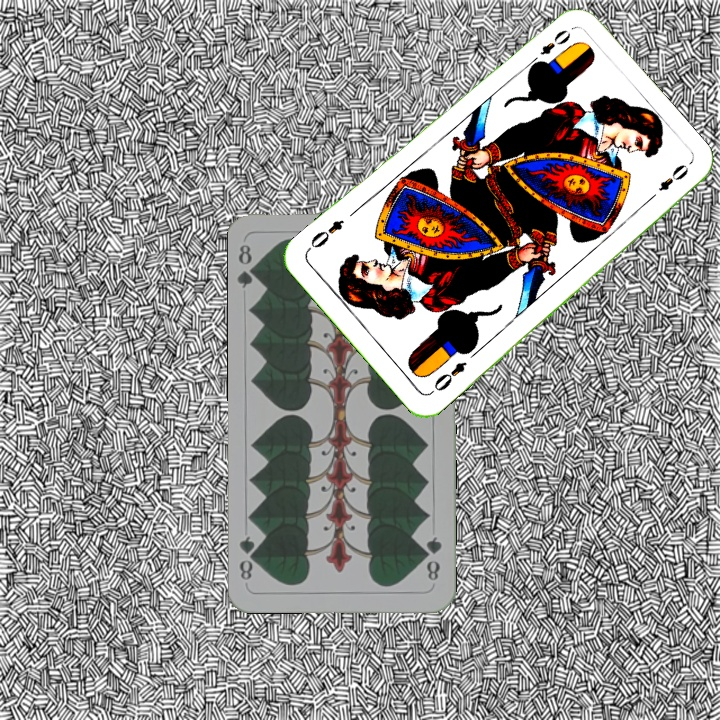EO: (525, 25, 573, 69), (426, 357, 470, 396)
G8: (234, 241, 261, 291), (421, 532, 445, 583)
